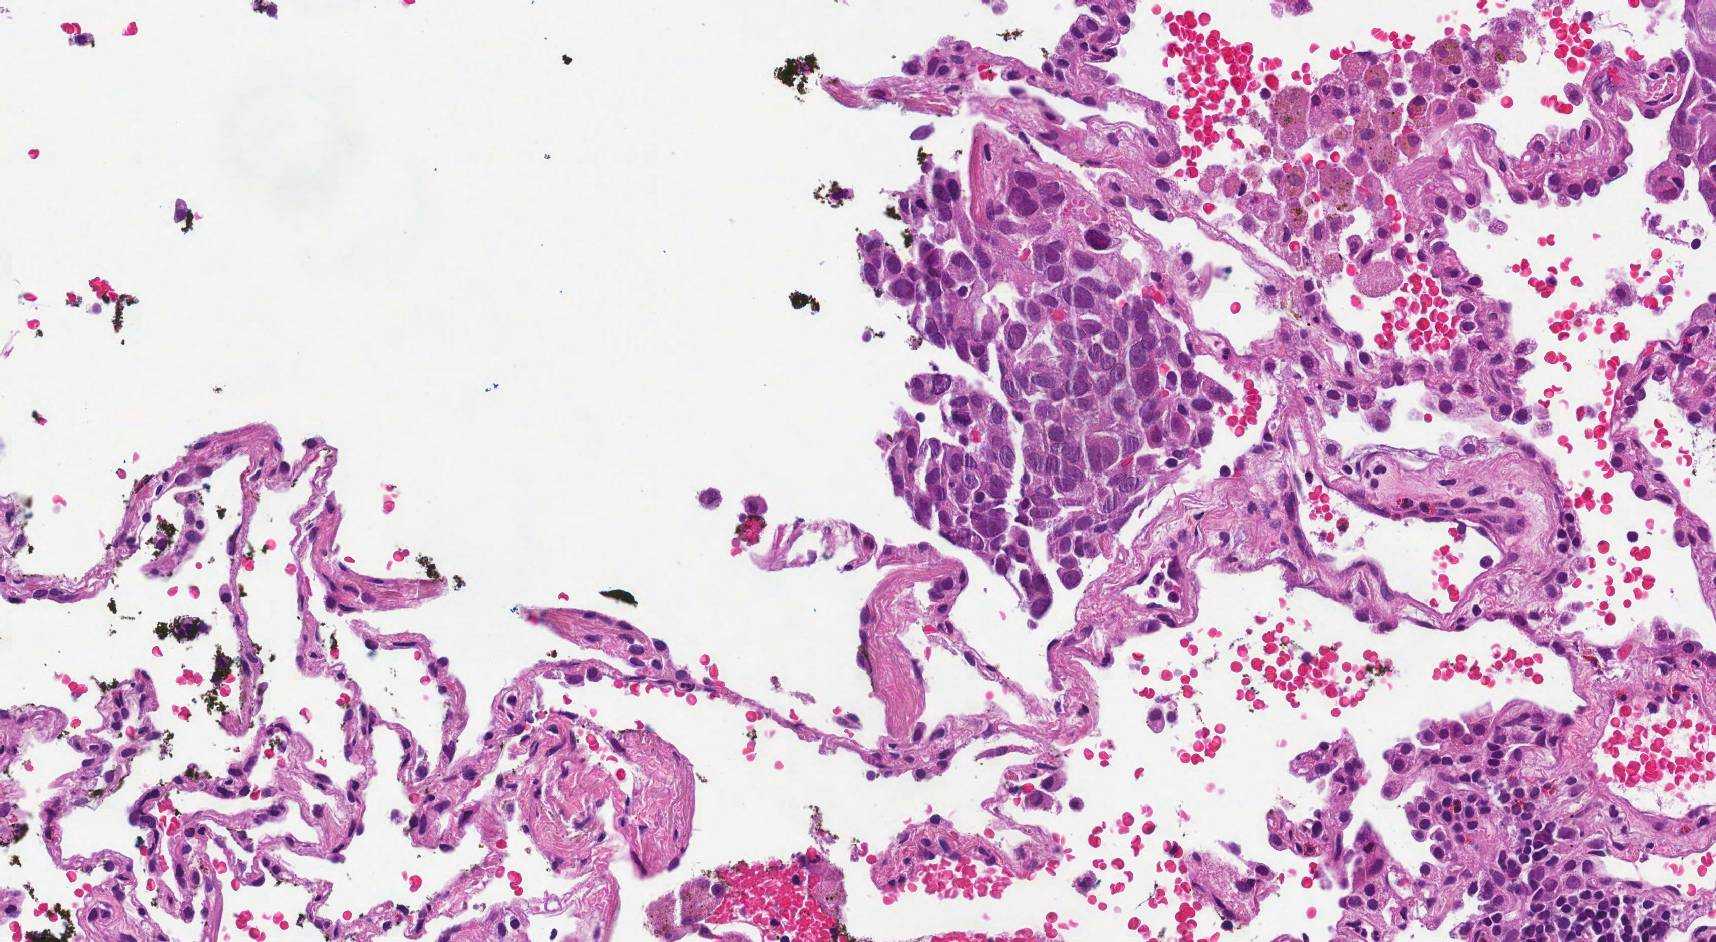stas: (855, 161, 1229, 622)
